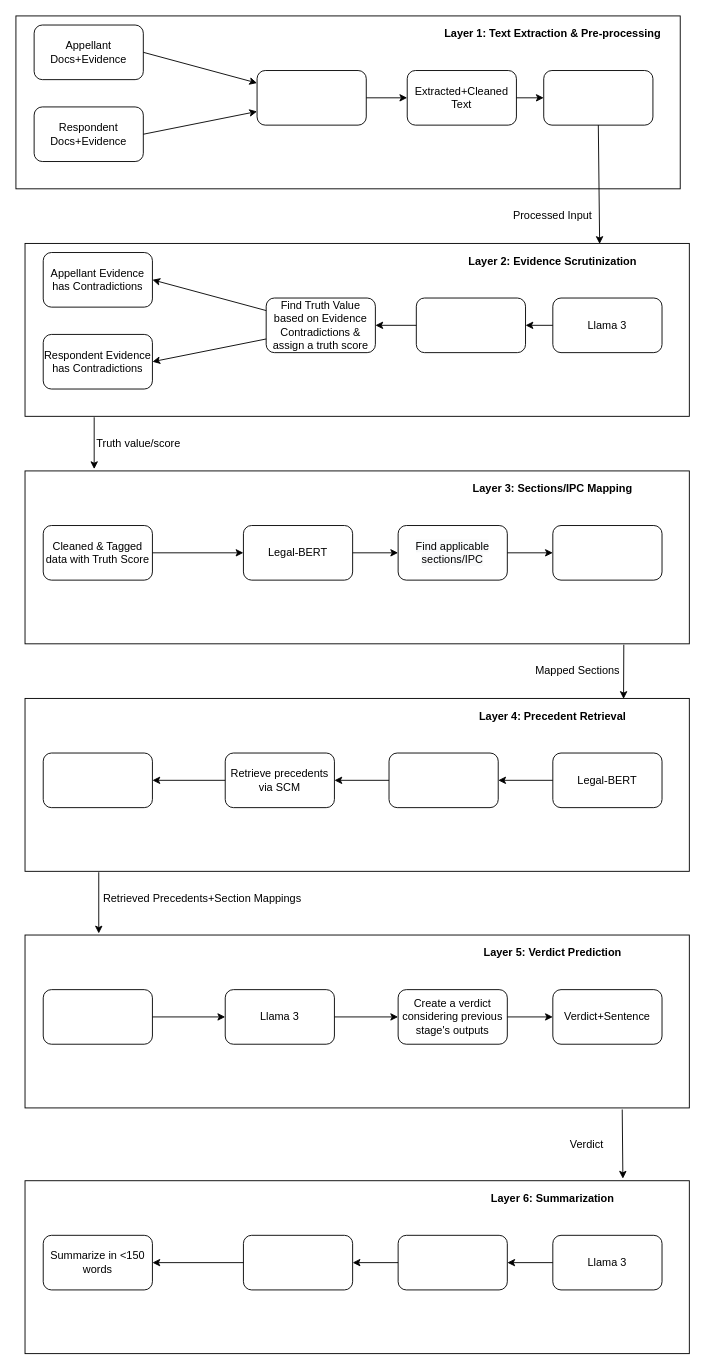
Image size: 705x1370. Some labels were removed from this diagram. The shapes that lost their labels are listed below. From the top down, each one's box as (x1, y1, x2, y2) in pixels, then its label:
(256, 70, 366, 125): Fitz
(543, 70, 653, 125): NER via Legal-BERT
(415, 297, 526, 353): Consistency Audit
(552, 525, 662, 580): Stored applicable sections for Verdict Prediction
(42, 752, 152, 808): Store Precedents to aid with Verdict prediction
(388, 752, 498, 808): Retrieve cases with Similar context(SCM)
(42, 989, 152, 1044): Pass Context+Section mappings+Precedents
(243, 1234, 353, 1290): Remove legal jargon
(397, 1234, 507, 1290): Simplify the verdict+sentence
